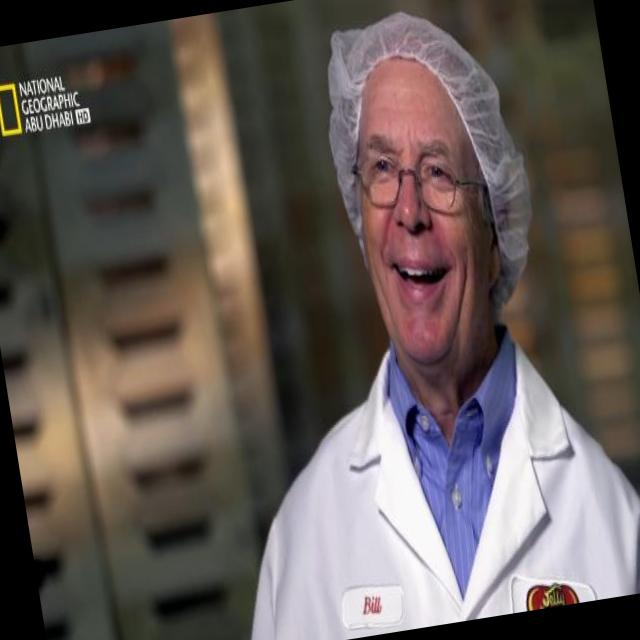hairnet: (310, 0, 508, 163)
